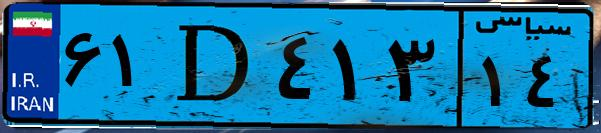1: (330, 28, 385, 110), (475, 38, 525, 113), (110, 28, 158, 98)
3: (385, 28, 445, 110)
4: (270, 28, 330, 110), (525, 38, 570, 115)
6: (57, 26, 110, 100)
D: (158, 12, 270, 120)
